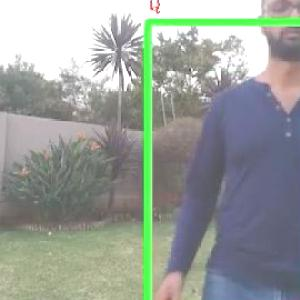follow: (193, 0, 299, 299)
